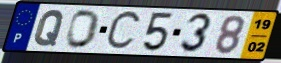3: (177, 12, 215, 55)
5: (140, 11, 177, 53)
8: (214, 14, 247, 55)
C: (103, 8, 144, 53)
O: (64, 9, 102, 50)
Q: (33, 8, 67, 47)
